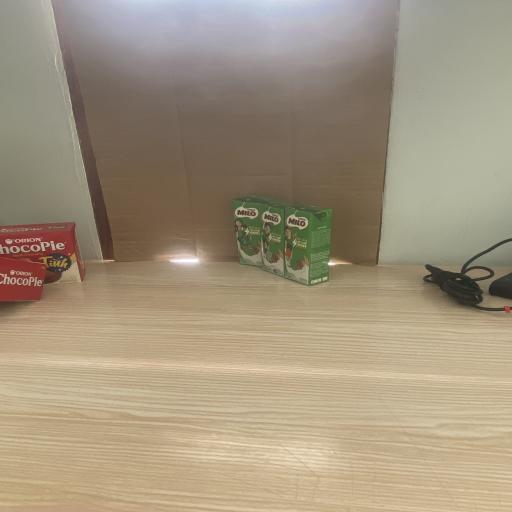chocopie: (0, 222, 86, 285), (0, 256, 46, 301)
milo: (283, 204, 332, 286), (230, 196, 264, 269), (260, 200, 286, 277)
